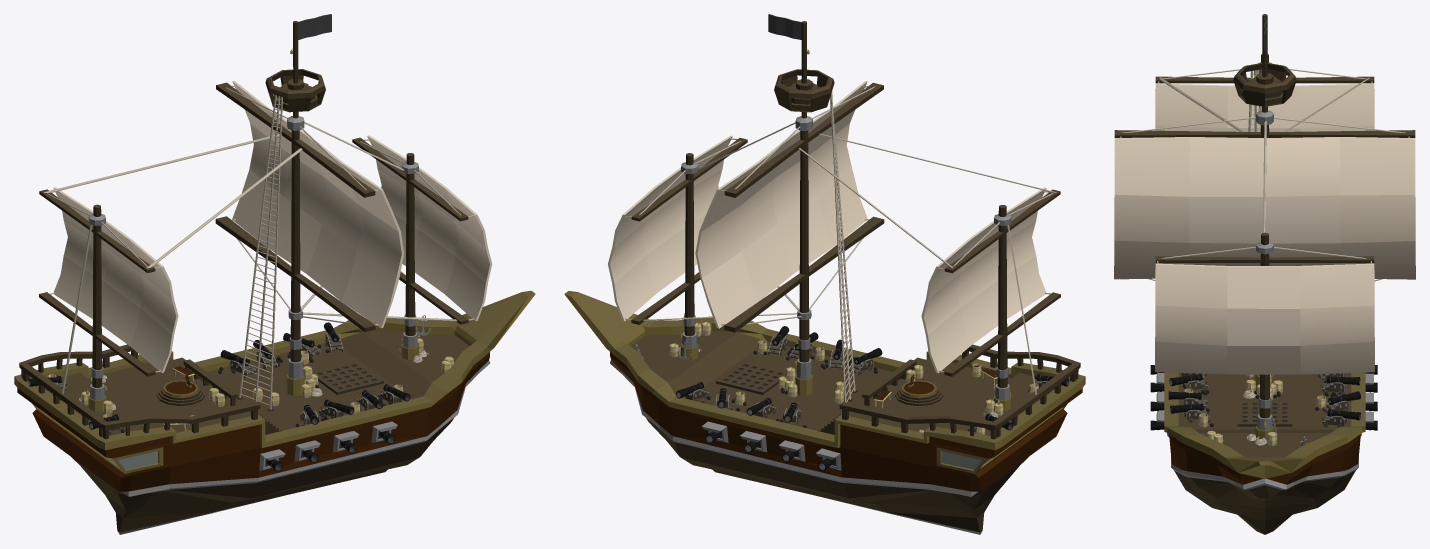
Rendered from navio.fbx.
The picture shows the model from 3 angles, left to right: view 1: azimuth 30°, elevation 25°; view 2: azimuth 150°, elevation 25°; view 3: azimuth 270°, elevation 25°; orthographic projection.
Parts seen in each view (by area): view 1: SM_Galleon; view 2: SM_Galleon; view 3: SM_Galleon.
Boxes of the visible parts, x1,y1,x2,y2 form: SM_Galleon: (14, 14, 535, 534); SM_Galleon: (564, 14, 1085, 534); SM_Galleon: (1114, 14, 1415, 534).
Bounding box in the file's own units: 6193 × 5856 × 3357.
